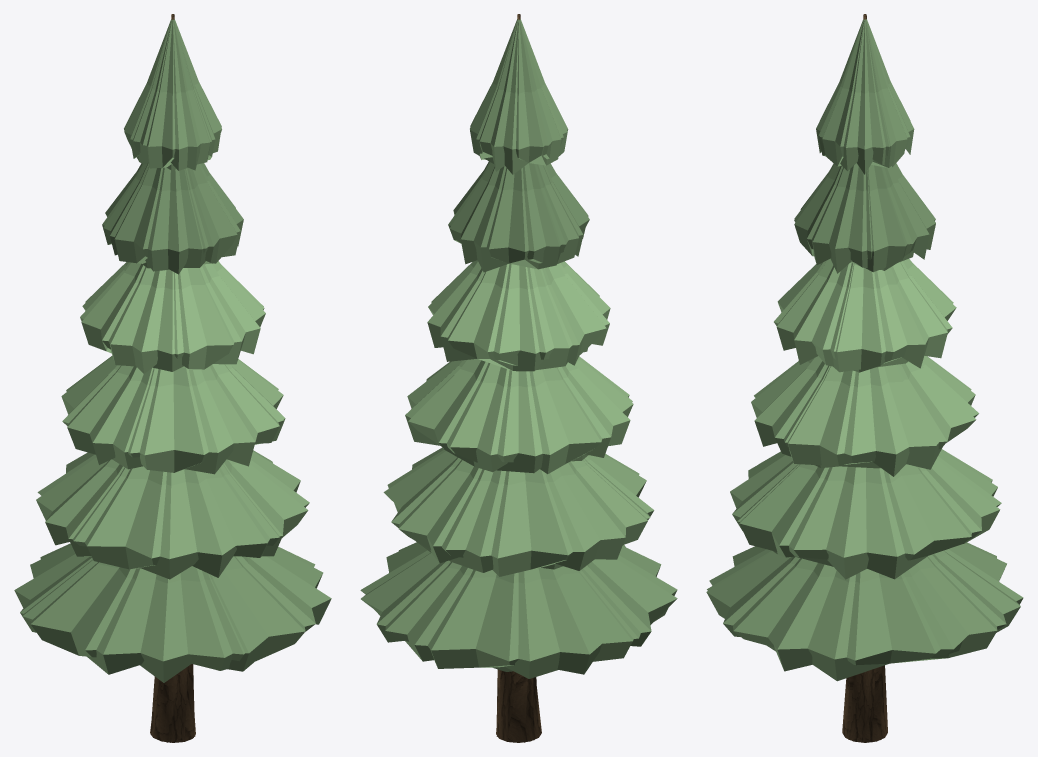
File: env_tree_pine_b_v001.glb
3 views of the same model, side by side, from view 1: azimuth 30°, elevation 25°; view 2: azimuth 150°, elevation 25°; view 3: azimuth 270°, elevation 25° (orthographic).
Parts seen in each view (by area): view 1: env_tree_pine_b_LOD0_mesh, env_tree_pine_b_LOD1_mesh, env_tree_pine_b_LOD2_mesh; view 2: env_tree_pine_b_LOD0_mesh, env_tree_pine_b_LOD1_mesh, env_tree_pine_b_LOD2_mesh; view 3: env_tree_pine_b_LOD0_mesh, env_tree_pine_b_LOD1_mesh, env_tree_pine_b_LOD2_mesh.
Boxes of the visible parts, <box> form: env_tree_pine_b_LOD0_mesh: <box>14,14,331,742</box>; env_tree_pine_b_LOD1_mesh: <box>23,14,323,742</box>; env_tree_pine_b_LOD2_mesh: <box>20,14,285,742</box>; env_tree_pine_b_LOD0_mesh: <box>360,14,677,742</box>; env_tree_pine_b_LOD1_mesh: <box>361,15,677,742</box>; env_tree_pine_b_LOD2_mesh: <box>385,16,647,741</box>; env_tree_pine_b_LOD0_mesh: <box>707,14,1023,742</box>; env_tree_pine_b_LOD1_mesh: <box>709,16,1020,742</box>; env_tree_pine_b_LOD2_mesh: <box>706,14,1006,742</box>.
Bounding box in the file's own units: 4 × 10 × 4.
Materials: 5 (1 with a texture image).
